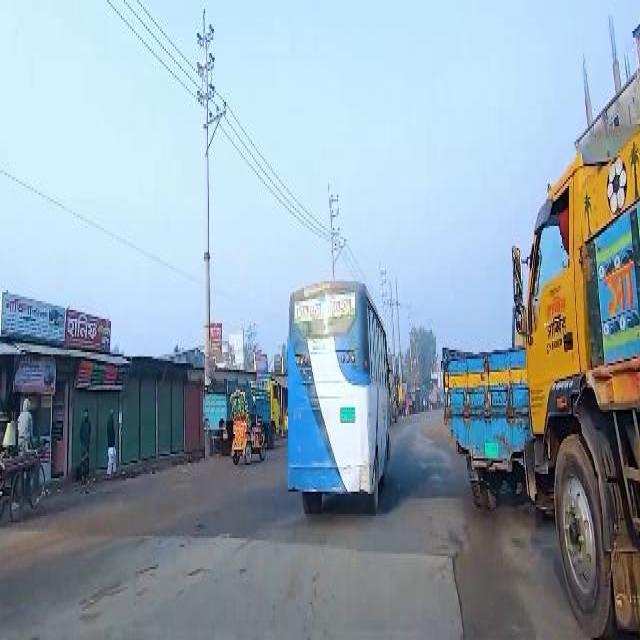vehicle: (511, 149, 639, 636), (290, 276, 392, 513), (440, 337, 533, 509), (203, 376, 281, 452), (232, 391, 266, 464)
